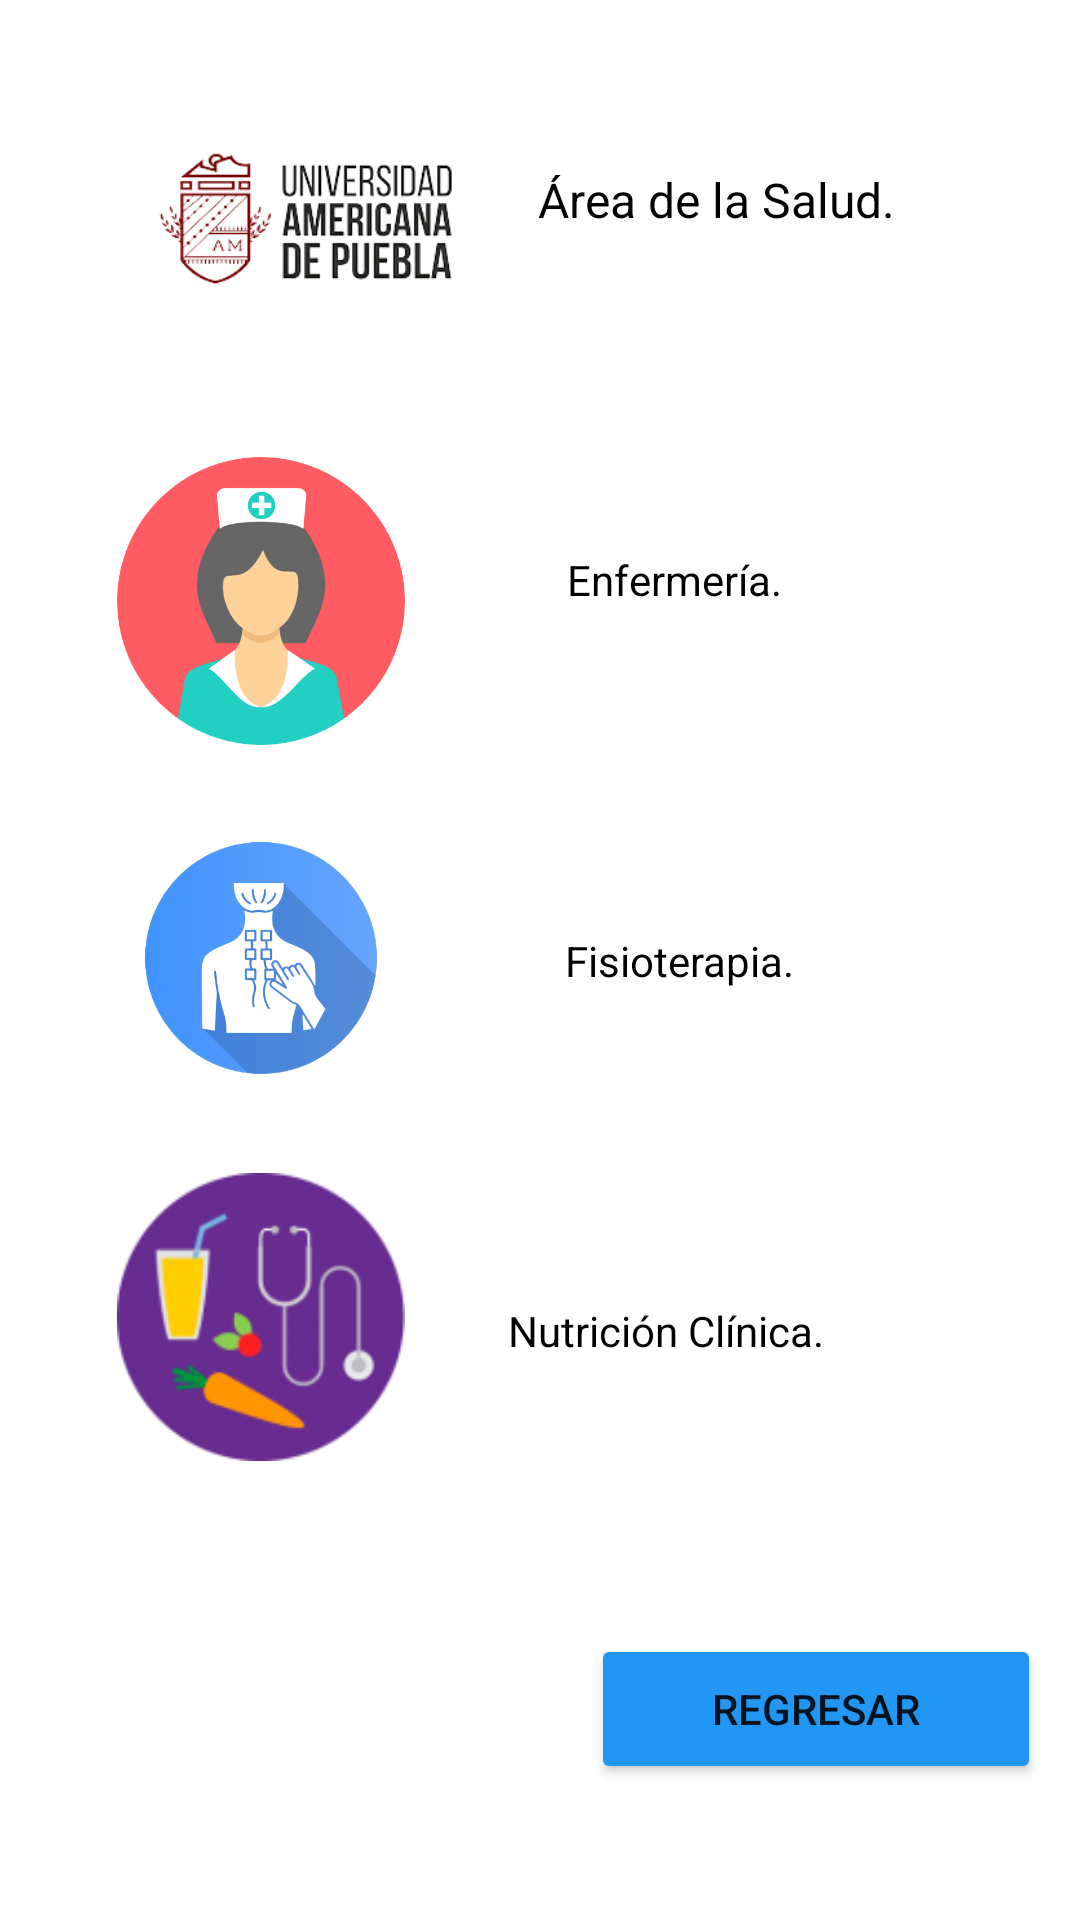

Named icons in this screenshot (1080 x 1920) and their bounding boxes, (x1, y1, x2, y2):
enfermeria: (117, 457, 405, 745)
nutricion: (117, 1173, 405, 1461)
